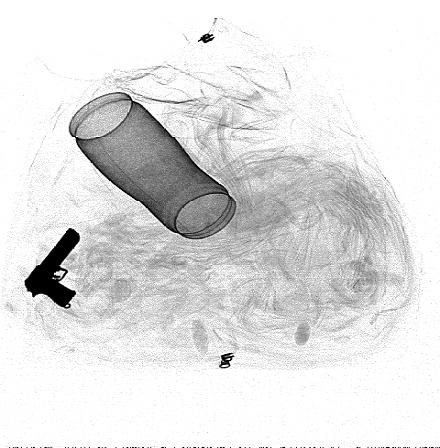Gun: (21, 227, 80, 307)
